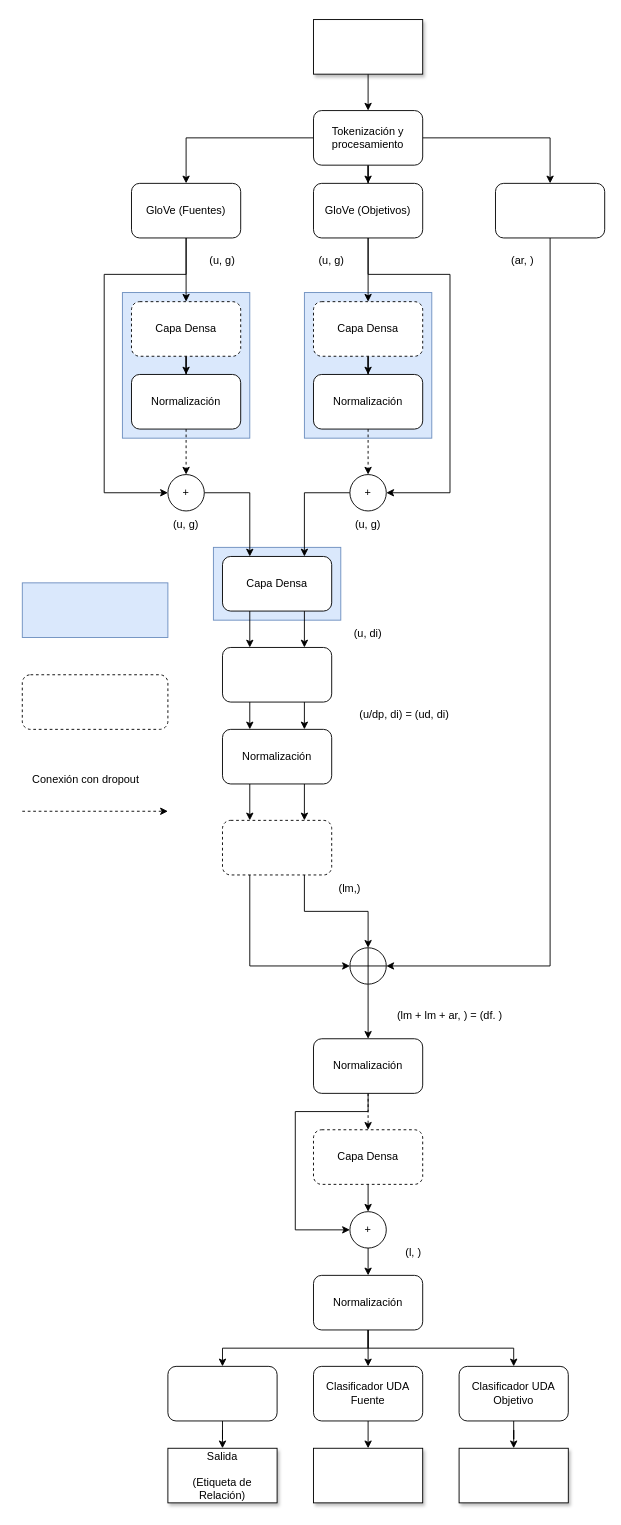
This 621x1525 diagram has some shape labels left out. Here are the shapes that lost their labels. From the top down, the centre of each, then its label:
the point at 368,48: Entrada (UDAs, Dist Arg)
the point at 550,210: Distancia Argumentativa
the point at 94,609: Modelo aplicado a los elementos de la secuencia
the point at 277,674: Average Pooling
the point at 94,701: Modelo con regularización y dropout interno
the point at 277,847: LSTM Bidireccional
the point at 222,1393: Clasificador Relación
the point at 368,1476: Salida (Etiqueta de Fuente)
the point at 514,1476: Salida (Etiqueta de Objetivo)
